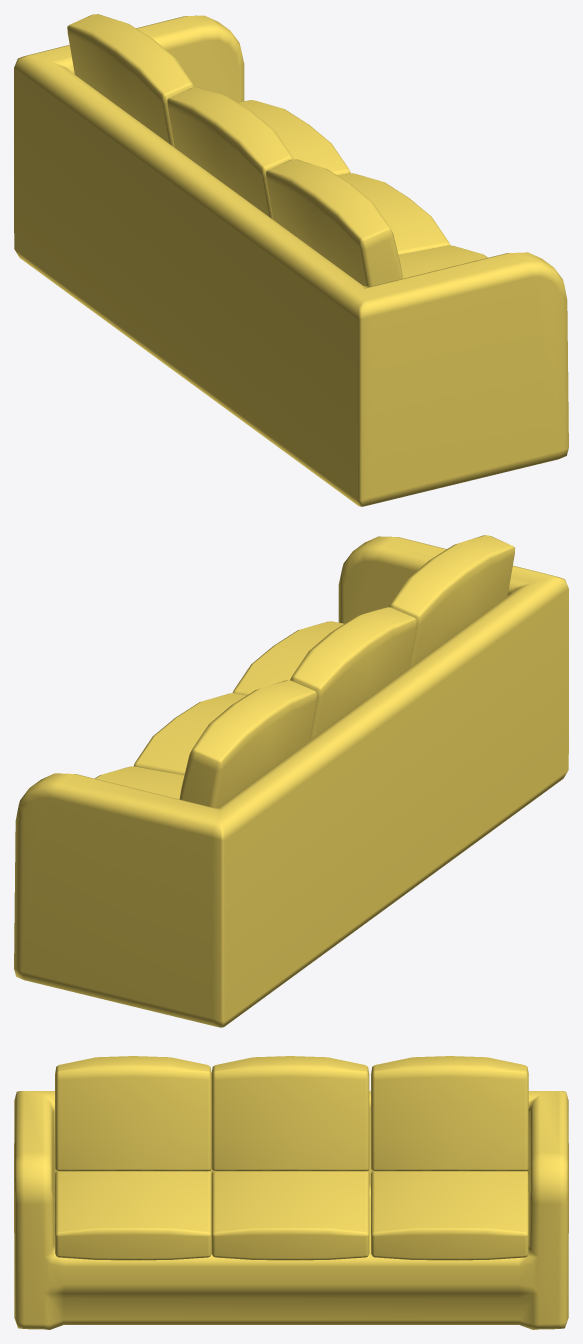
The model's file is Sofa_ThreeSeater.fbx.
The picture shows the model from 3 angles, top to bottom: view 1: azimuth 30°, elevation 25°; view 2: azimuth 150°, elevation 25°; view 3: azimuth 270°, elevation 25°; orthographic projection. The views are drawn at different scales.
Visible parts, largest first — view 1: Sofa_ThreeSeater; view 2: Sofa_ThreeSeater; view 3: Sofa_ThreeSeater.
Boxes of the visible parts, <box> form: Sofa_ThreeSeater: <box>14,14,568,506</box>; Sofa_ThreeSeater: <box>14,535,568,1027</box>; Sofa_ThreeSeater: <box>14,1056,568,1329</box>.
Size of the model in its own units: 103 by 116 by 278.
